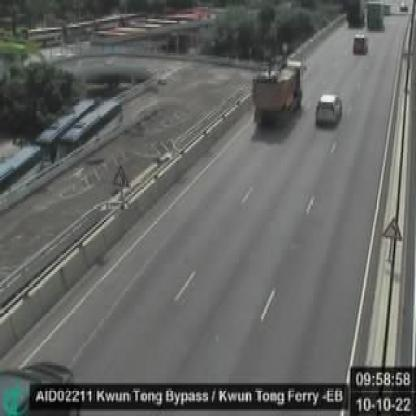Car: (0, 354, 79, 412), (315, 91, 342, 126), (353, 32, 366, 53)
Truck: (254, 54, 306, 122)
